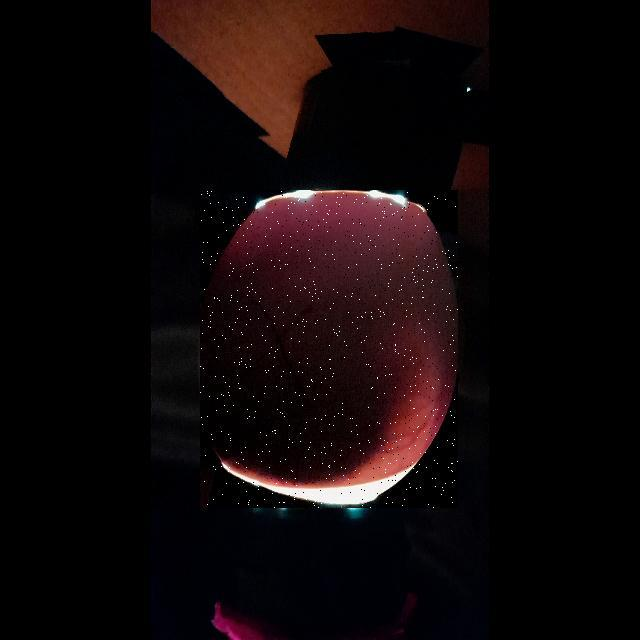Fertile: (200, 190, 458, 508)
